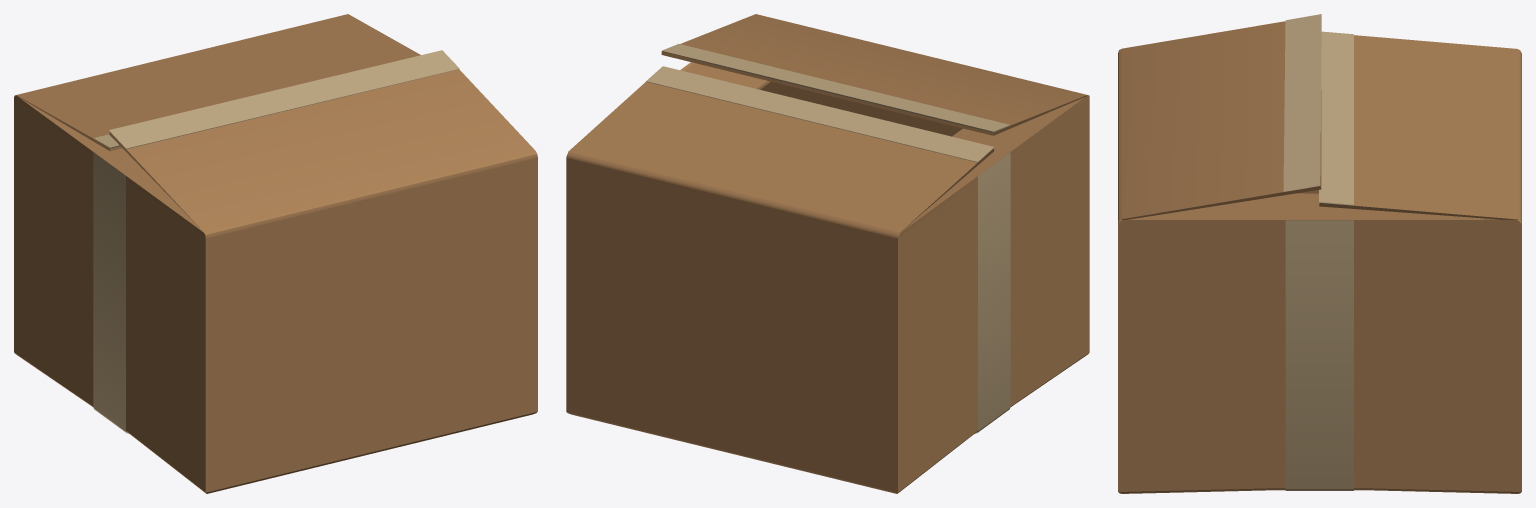
Rendered from uploads_files_4433120_Low+Poly+Cardboard+Box.fbx.
The picture shows the model from 3 angles, left to right: view 1: azimuth 30°, elevation 25°; view 2: azimuth 150°, elevation 25°; view 3: azimuth 270°, elevation 25°; orthographic projection. The views are drawn at different scales.
Visible parts, largest first — view 1: Cube, Cube.001; view 2: Cube, Cube.001; view 3: Cube, Cube.001.
Part boxes in pixels (box(x1,y1,x2,y2)): Cube: box(14, 14, 537, 493); Cube.001: box(93, 50, 459, 433); Cube: box(566, 14, 1089, 493); Cube.001: box(646, 44, 1010, 433); Cube: box(1118, 21, 1521, 493); Cube.001: box(1283, 14, 1353, 490).
Size of the model in its own units: 10.05 by 8.5 by 10.
